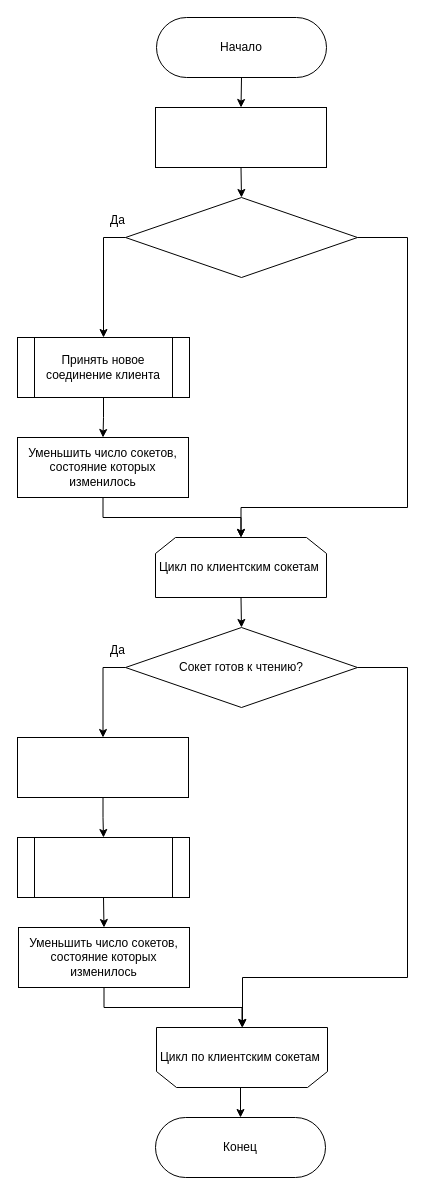
Some shapes in this 433 by 1195 pixel diagram are drawn without their labels. The centre of each missing label's shape, as x and y in pixels:
Добавить задачу обработки клиента в пул потоков: the point at 103,867
Инициализировать структуру задачи для обработки в пуле потоков: the point at 102,767
Получение числа сокетов, сотояние которых изменилось с использованием poll: the point at 240,137
Серверный сокет готов к чтению?: the point at 241,237
